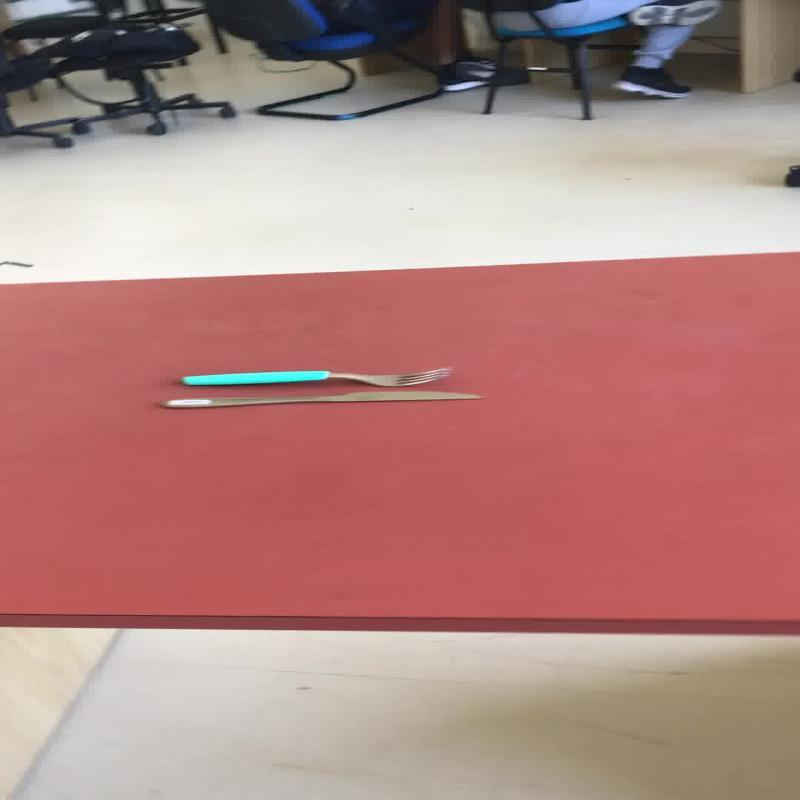fork: (178, 366, 453, 386)
knife: (157, 390, 484, 408)
